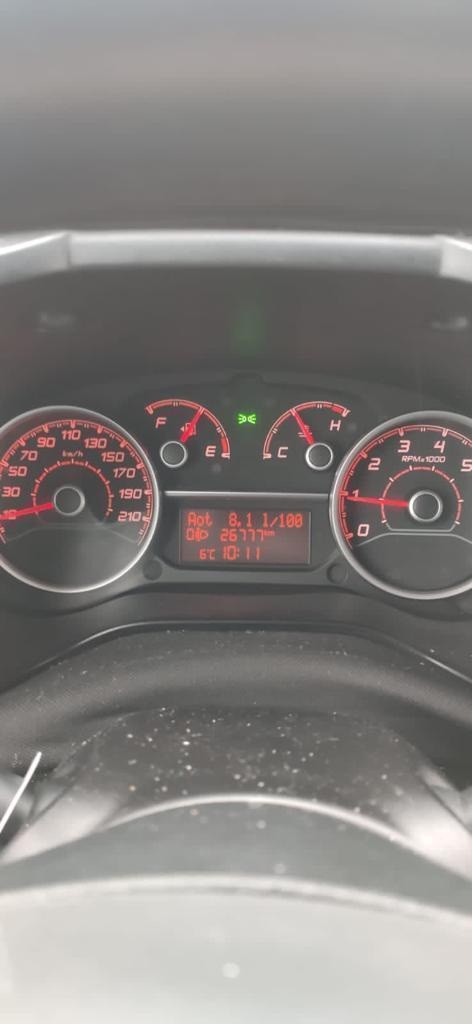,: (237, 520, 242, 527)
0: (227, 544, 236, 560), (285, 512, 294, 528), (294, 512, 302, 528), (186, 527, 194, 541)
1: (246, 511, 253, 527), (279, 511, 285, 528), (245, 545, 251, 560), (256, 545, 261, 561), (223, 544, 226, 560)
2: (220, 528, 228, 541)
6: (229, 528, 238, 542), (199, 548, 206, 560)
7: (255, 528, 263, 542), (247, 528, 255, 541), (239, 528, 246, 541)
8: (228, 511, 237, 526)
X: (187, 510, 196, 526), (204, 511, 213, 526), (262, 510, 269, 528), (269, 515, 278, 527), (197, 515, 204, 526), (209, 548, 215, 560), (267, 529, 275, 536), (236, 546, 240, 557), (263, 528, 267, 536)
odometer: (178, 503, 311, 565)
